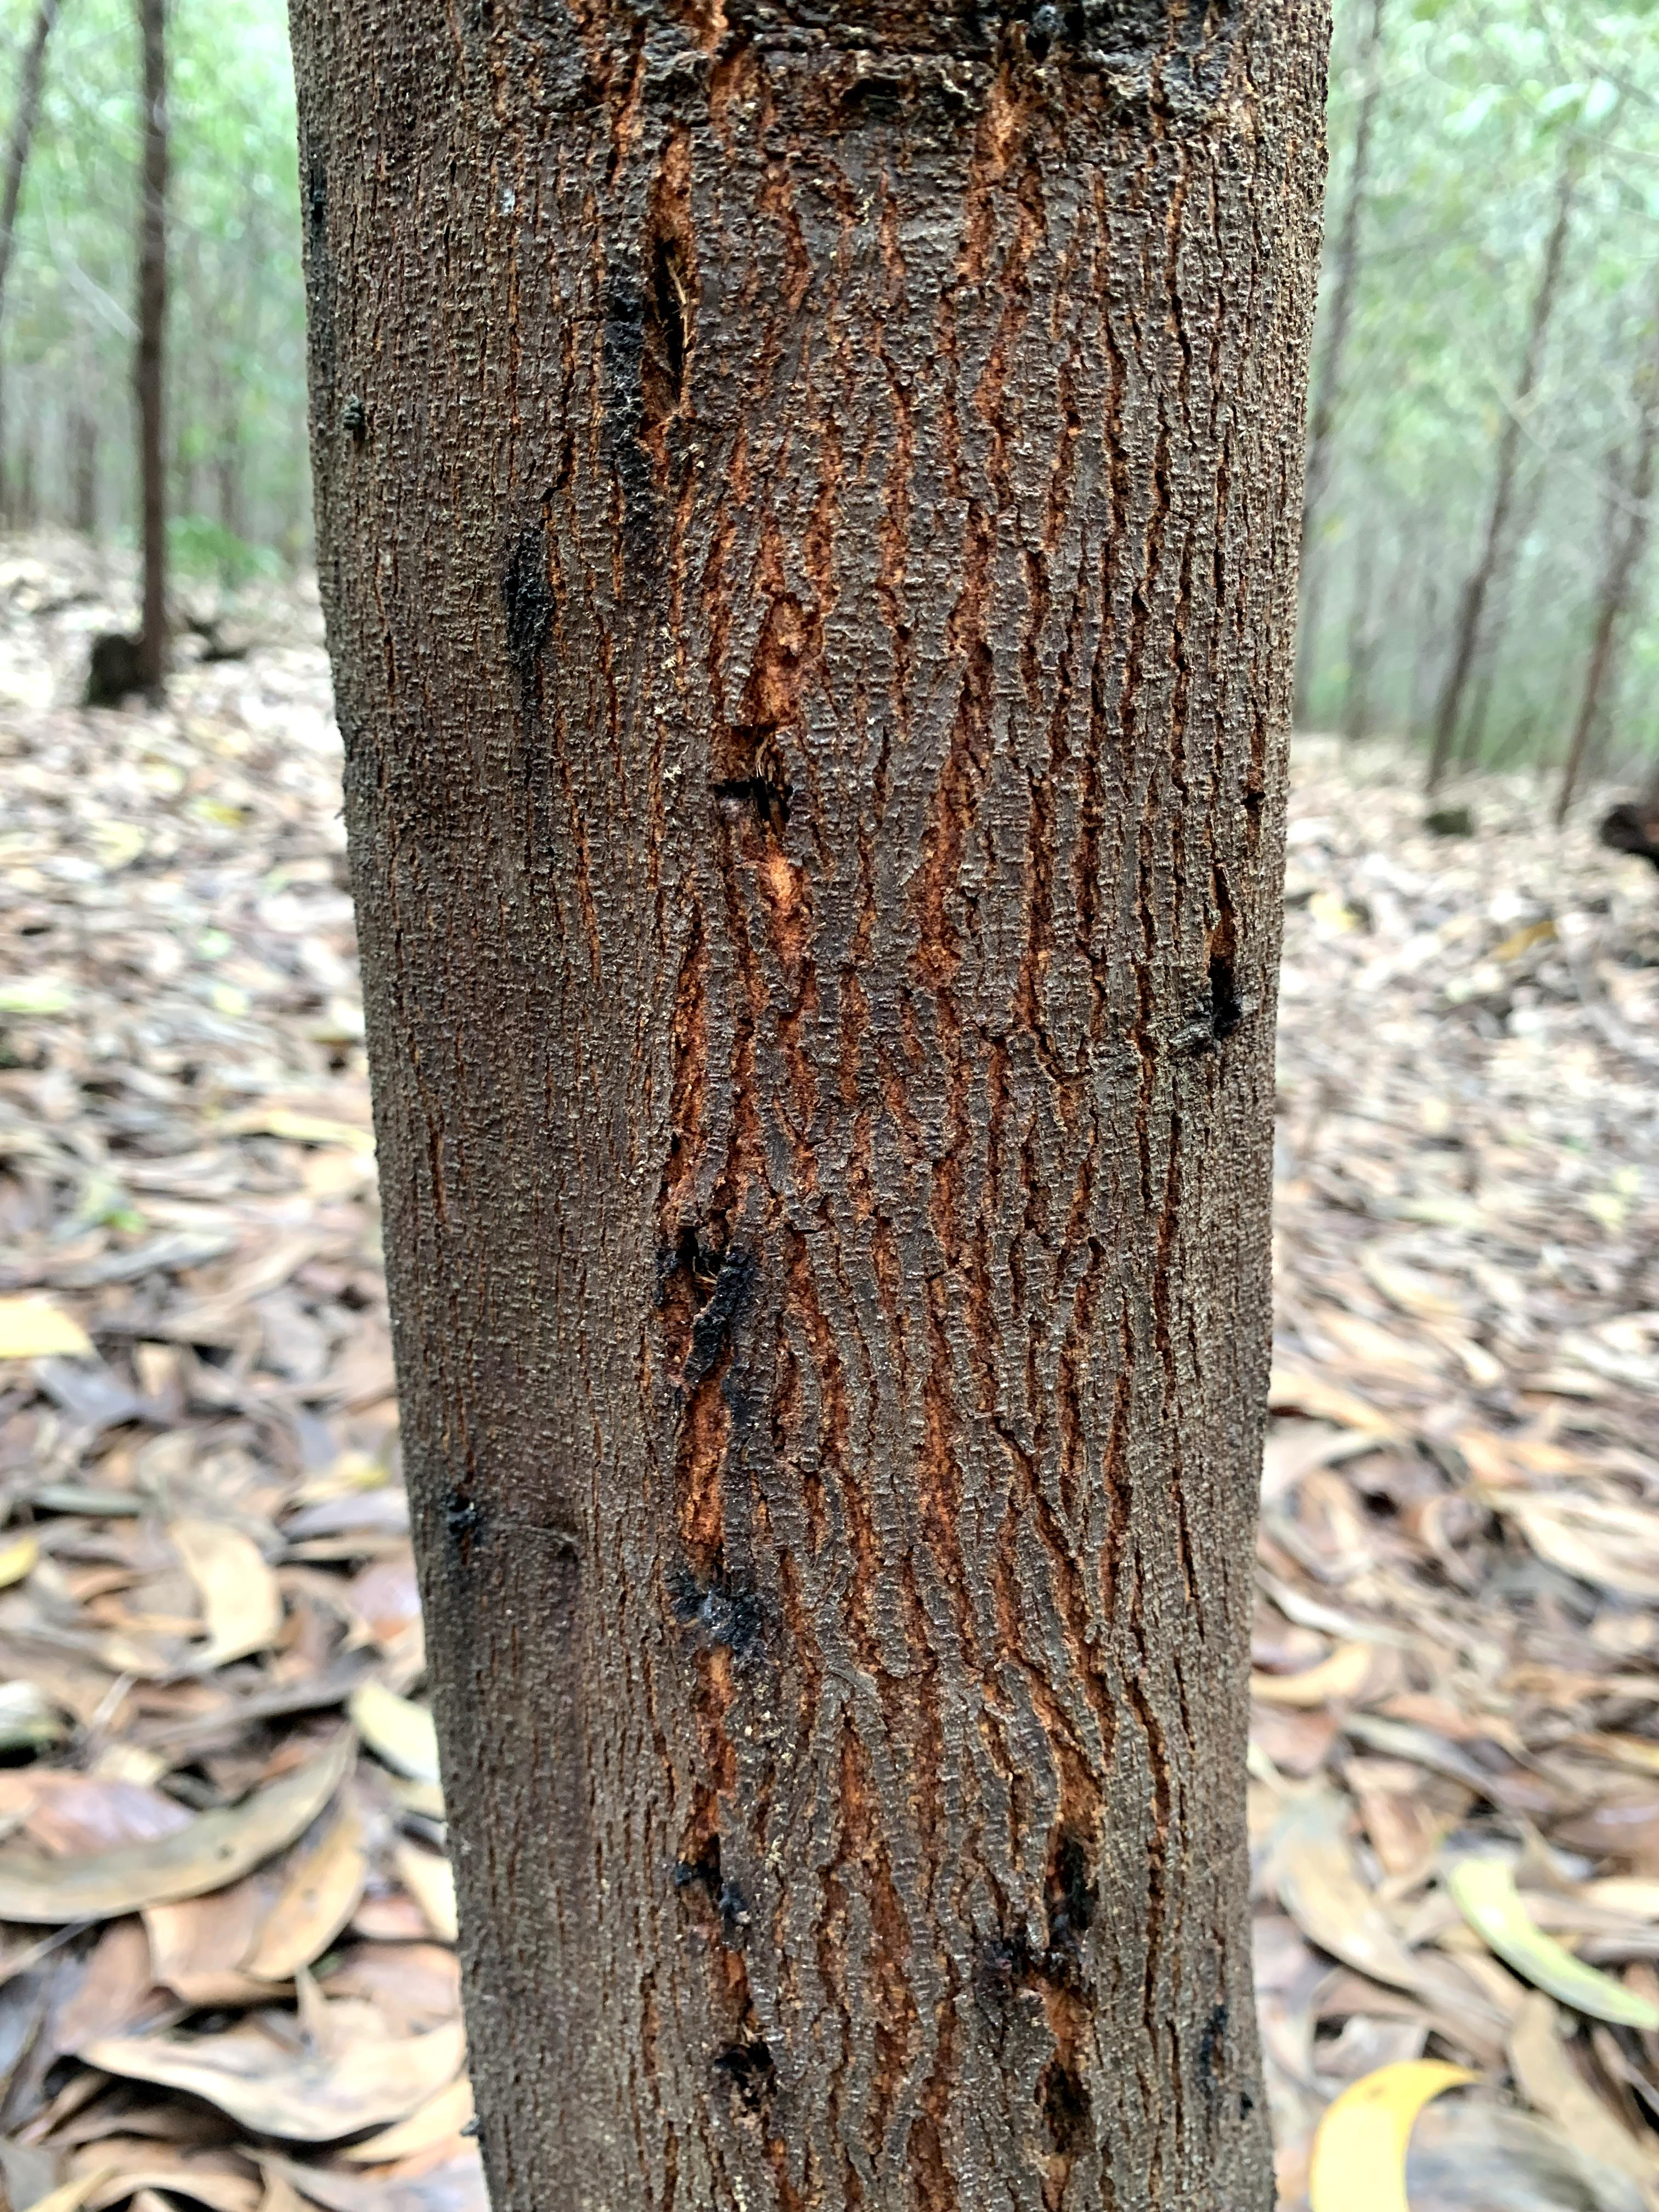Stem Borer: (603, 171, 725, 488), (638, 1139, 774, 1420), (1173, 900, 1265, 1087), (1014, 1815, 1133, 1958), (704, 719, 817, 867), (1018, 2022, 1117, 2175), (702, 2010, 800, 2160), (673, 1522, 779, 1653), (477, 521, 561, 681), (671, 1804, 760, 1940)
